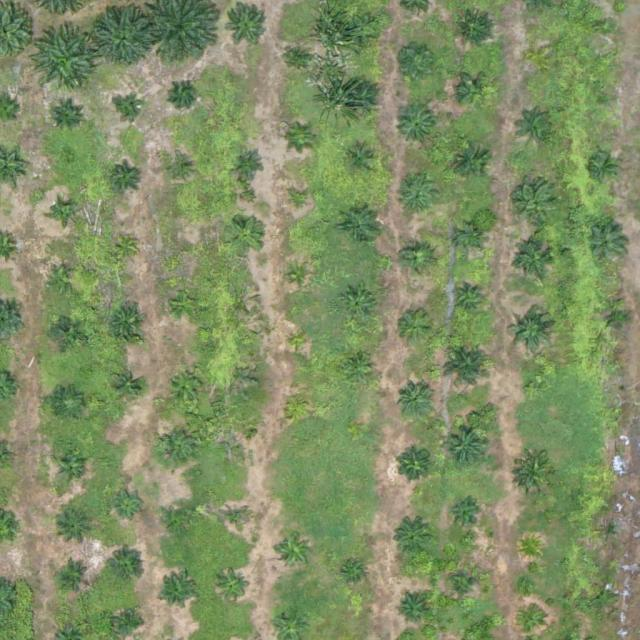Healthy: (28, 30, 98, 100), (91, 6, 153, 69), (440, 340, 495, 395), (351, 17, 382, 49), (459, 226, 482, 250)
Small: (508, 309, 555, 357), (392, 40, 439, 88), (442, 422, 489, 469), (397, 178, 437, 218), (588, 224, 628, 264), (515, 454, 555, 494), (343, 80, 383, 120), (394, 308, 434, 347), (392, 518, 431, 558), (395, 445, 434, 485), (453, 143, 492, 183), (521, 109, 560, 149), (57, 508, 97, 547), (156, 427, 195, 467), (109, 303, 148, 343), (343, 205, 382, 245), (275, 532, 314, 572), (340, 287, 380, 326), (455, 8, 495, 47), (159, 575, 198, 614), (397, 106, 436, 145), (396, 381, 435, 420), (516, 242, 555, 281), (517, 186, 556, 225), (167, 367, 206, 406), (227, 217, 266, 256), (107, 551, 146, 590), (218, 571, 249, 603), (396, 594, 427, 626), (452, 283, 483, 315), (54, 388, 85, 420), (346, 146, 377, 178), (53, 314, 84, 346), (602, 303, 633, 335), (112, 370, 143, 402), (221, 504, 252, 536), (166, 503, 197, 535), (115, 489, 146, 521), (57, 452, 88, 484), (402, 245, 433, 276), (447, 501, 478, 532), (460, 76, 491, 107), (589, 152, 620, 183), (53, 101, 84, 132), (111, 162, 142, 193), (343, 350, 374, 381), (448, 572, 479, 603), (234, 149, 265, 180), (171, 290, 202, 321), (48, 265, 79, 296), (113, 607, 144, 638), (59, 560, 90, 591), (292, 127, 316, 151), (172, 82, 196, 106), (519, 536, 543, 560), (520, 612, 544, 636), (593, 586, 617, 610), (288, 190, 312, 214), (287, 264, 311, 288), (288, 331, 312, 355), (285, 394, 309, 418), (114, 235, 138, 259), (54, 201, 78, 225), (342, 563, 366, 587), (120, 98, 143, 122), (599, 520, 622, 544), (168, 159, 191, 183), (176, 240, 199, 264), (228, 426, 251, 450), (289, 47, 312, 70), (597, 90, 613, 106), (525, 381, 541, 397), (597, 18, 613, 33), (532, 52, 547, 67)
